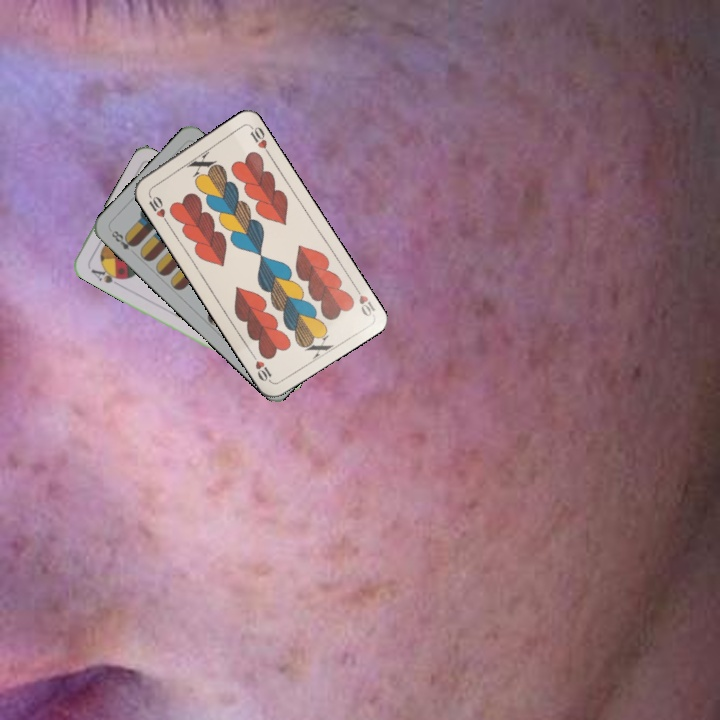E8: (107, 226, 139, 253)
H10: (350, 281, 378, 319), (144, 189, 170, 226)
SA: (87, 263, 126, 288)
